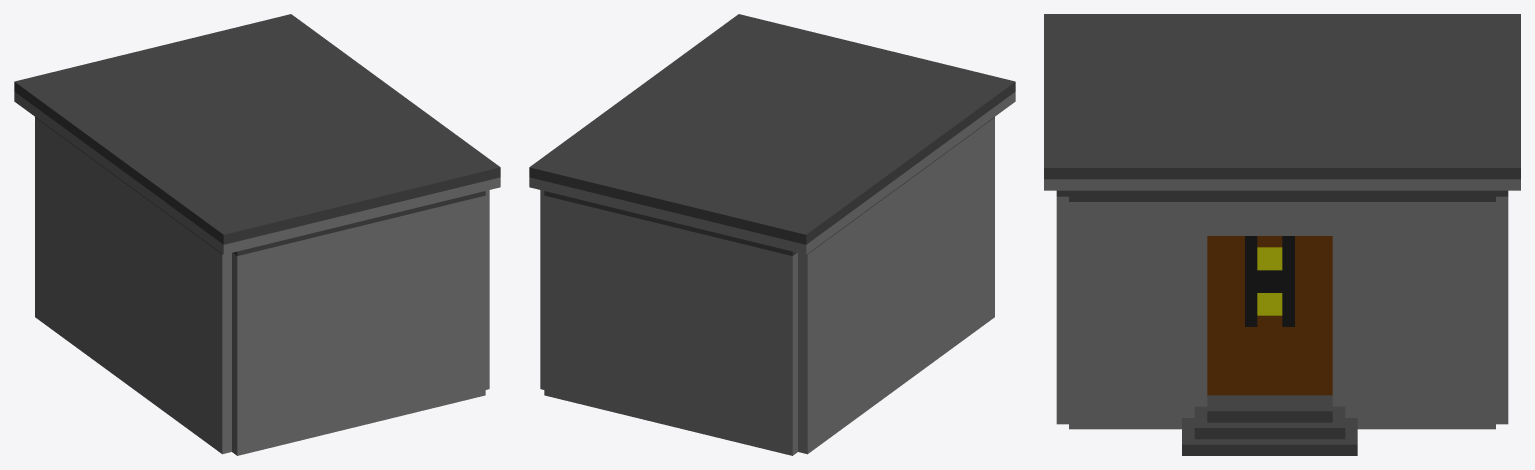
File: building 1-0.obj
3 renders of one model, left to right at view 1: azimuth 30°, elevation 25°; view 2: azimuth 150°, elevation 25°; view 3: azimuth 270°, elevation 25°, orthographic. The views are drawn at different scales.
Size of the model in its own units: 3.4 by 2.3 by 3.8.
Materials: 1 (1 with a texture image).
